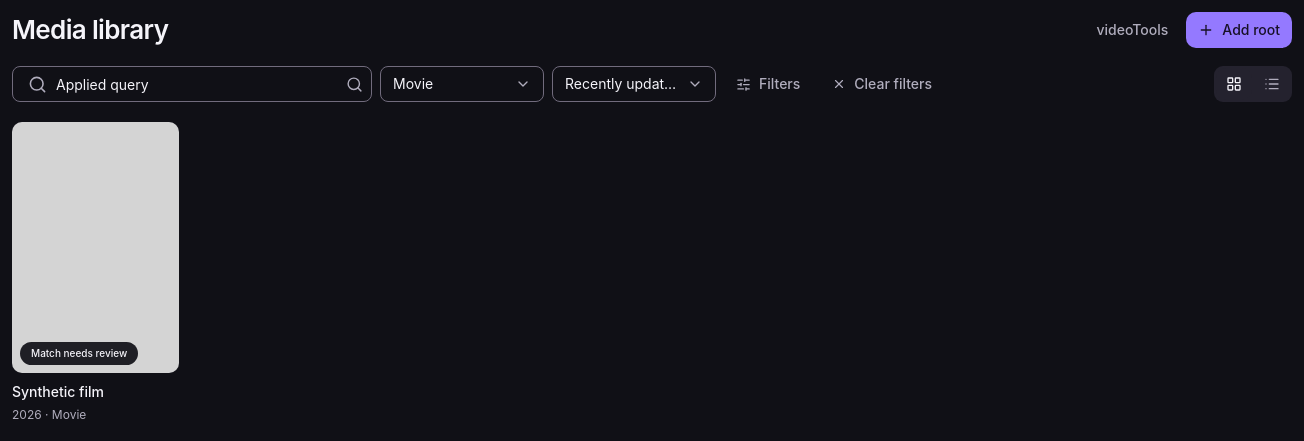
it: discards an unsubmitted search draft when the media scope changes
Replace the text in the search field with "Unsubmitted draft" at x=192, y=84, box [12,66,372,102]
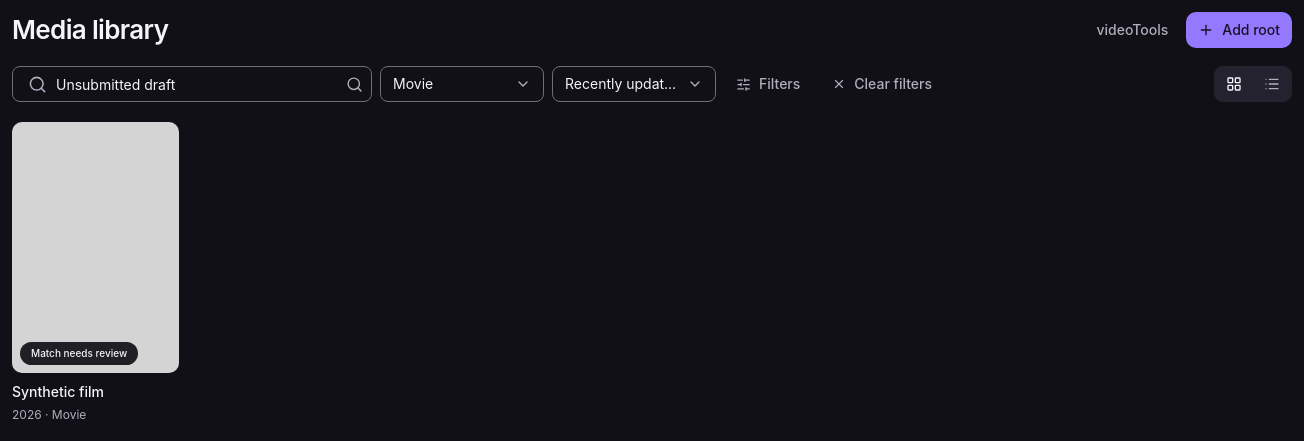
Click the dropdown named "Media type" at x=462, y=84, box [380,66,544,102]
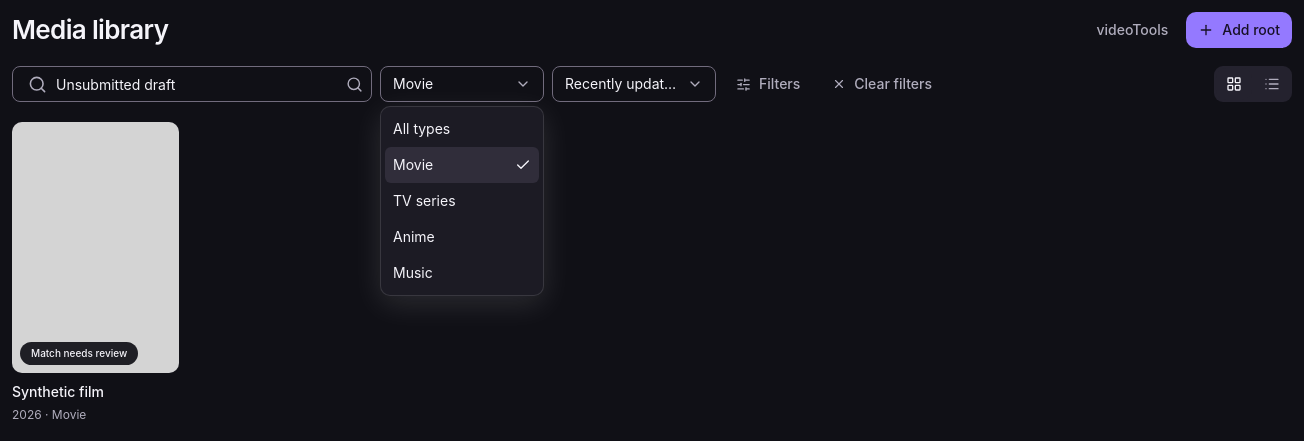
Click the option "Anime" at x=462, y=237, box [385,219,539,255]
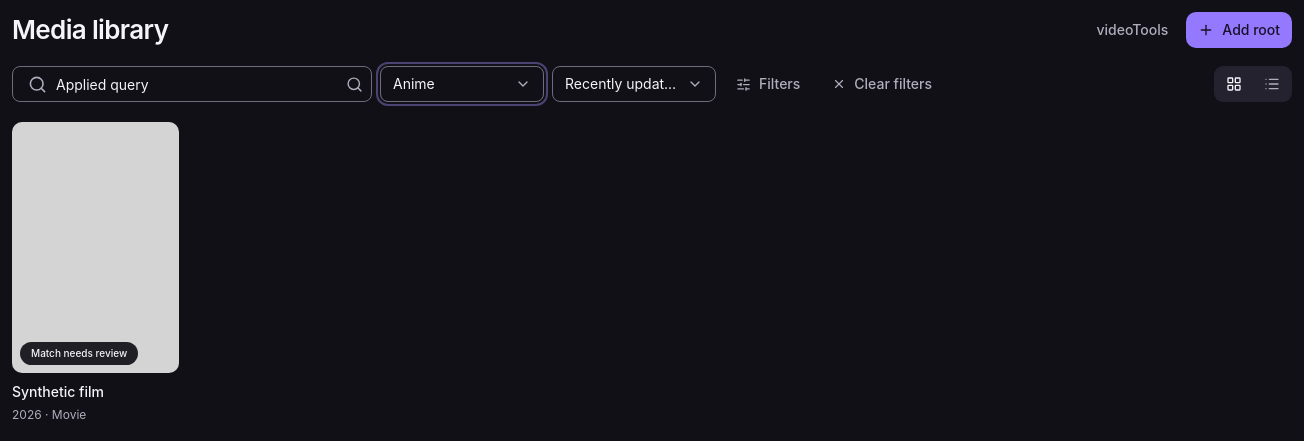
Expected: the search field holds "Applied query", [12,66,372,102]
